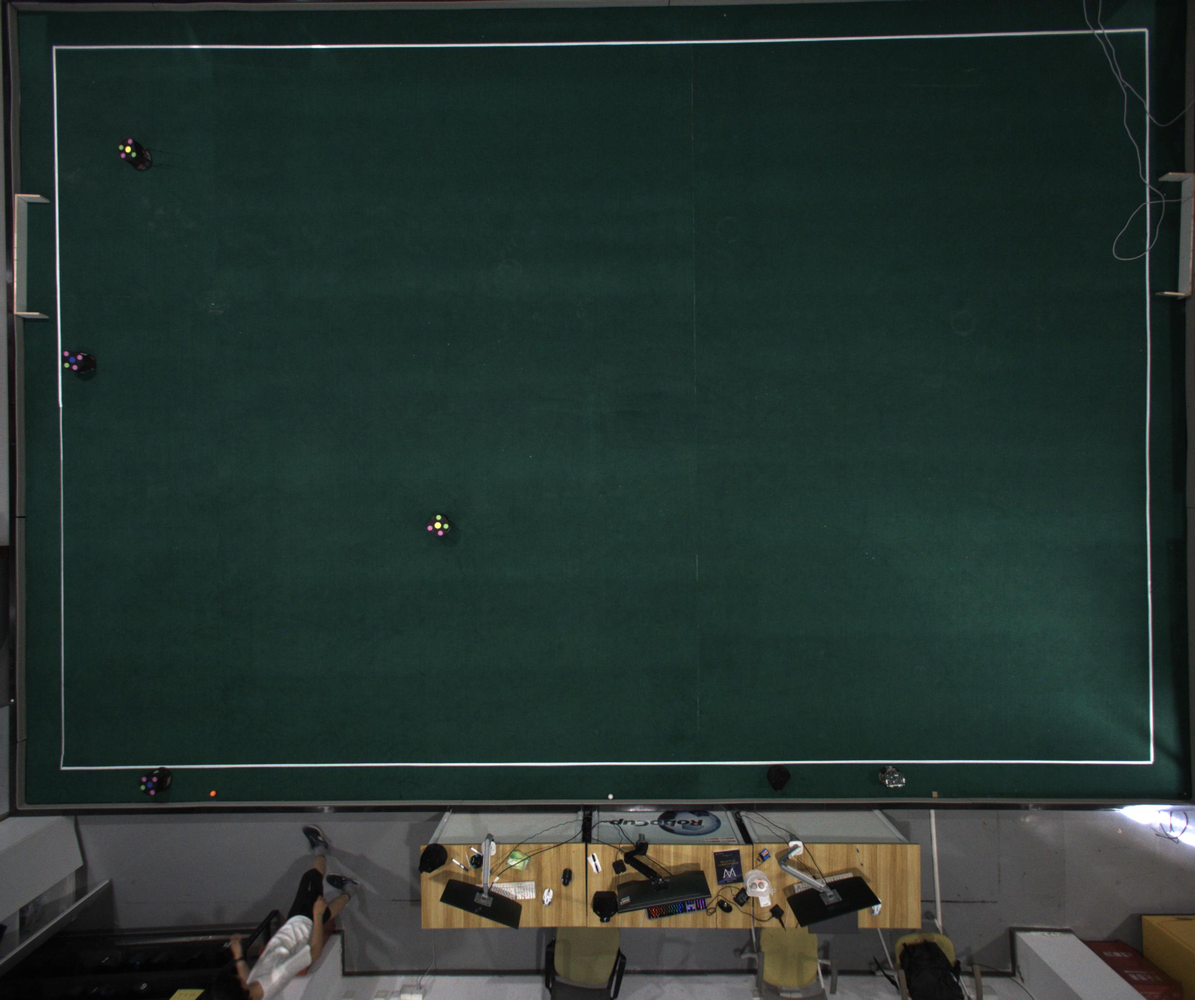ball: (210, 791, 216, 797)
blue_bot: (62, 350, 84, 372), (139, 774, 160, 796)
yellow_bot: (428, 514, 449, 536), (119, 138, 138, 161)
